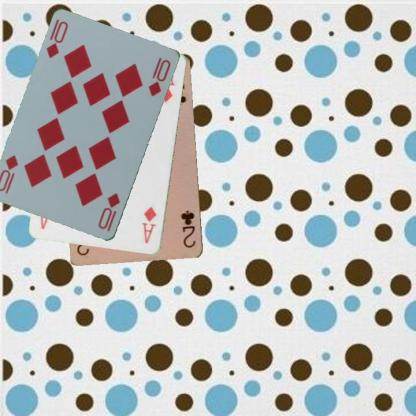10d: (95, 190, 122, 233), (44, 19, 69, 60)
2c: (179, 208, 197, 249)
Ad: (139, 204, 158, 245)
